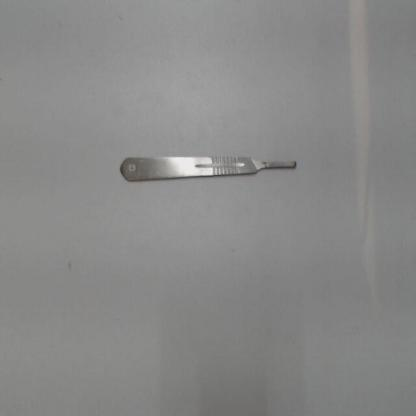No.4 BP Handle: (115, 147, 301, 196)
